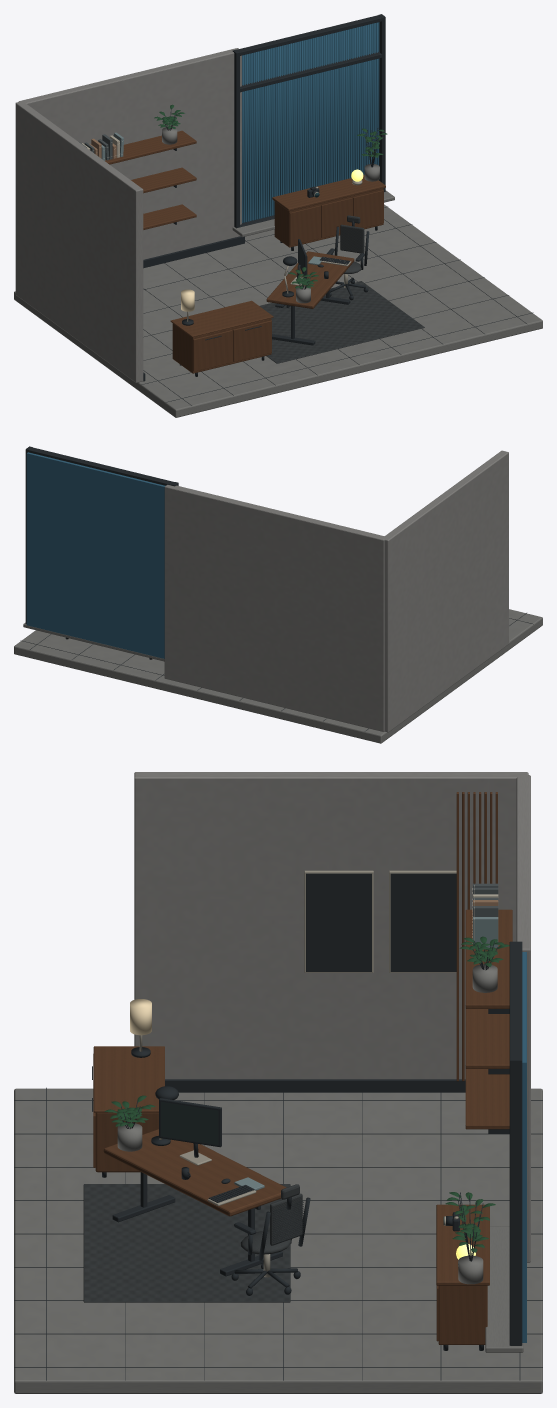
File: room-packed.glb
The picture shows the model from 3 angles, top to bottom: view 1: azimuth 30°, elevation 25°; view 2: azimuth 150°, elevation 25°; view 3: azimuth 270°, elevation 25°; orthographic projection. The views are drawn at different scales.
Visible parts, largest first — view 1: room_detail_Graphite mineral plaster, room_detail_Honed charcoal stone, room_detail_Blue smoked fluted glazing, room_detail_Walnut • satin oiled end grain, room_detail_Powder coated graphite, Woven studio rug, record_console, desk, chair, library_books, Window plant, Shelf plant (+1 smaller); view 2: room_detail_Graphite mineral plaster, room_detail_Blue smoked fluted glazing, room_detail_Honed charcoal stone, room_detail_Powder coated graphite; view 3: room_detail_Honed charcoal stone, room_detail_Graphite mineral plaster, room_detail_Powder coated graphite, Woven studio rug, room_detail_Walnut • satin oiled end grain, desk, record_console, chair, monitor_screen, room_detail_Blue smoked fluted glazing, Window plant, room_detail_Brushed warm aluminum (+4 smaller).
Boxes of the visible parts, box(x1,y1,x2,y2) form: room_detail_Graphite mineral plaster: box(15, 48, 241, 382); room_detail_Honed charcoal stone: box(14, 190, 542, 417); room_detail_Blue smoked fluted glazing: box(242, 22, 379, 223); room_detail_Walnut • satin oiled end grain: box(105, 130, 385, 247); room_detail_Powder coated graphite: box(141, 14, 533, 405); Woven studio rug: box(259, 281, 424, 363); record_console: box(170, 300, 273, 376); desk: box(266, 251, 354, 345); chair: box(326, 215, 369, 300); library_books: box(79, 132, 123, 160); Window plant: box(357, 128, 387, 181); Shelf plant: box(154, 104, 184, 144); room_detail_Graphite mineral plaster: box(164, 450, 508, 732); room_detail_Blue smoked fluted glazing: box(26, 452, 165, 658); room_detail_Honed charcoal stone: box(14, 609, 542, 743); room_detail_Powder coated graphite: box(20, 446, 533, 731); room_detail_Honed charcoal stone: box(14, 1088, 542, 1393); room_detail_Graphite mineral plaster: box(134, 772, 530, 1262); room_detail_Powder coated graphite: box(14, 873, 542, 1380); Woven studio rug: box(83, 1184, 290, 1302); room_detail_Walnut • satin oiled end grain: box(436, 792, 512, 1344); desk: box(103, 1129, 286, 1276); record_console: box(92, 1046, 164, 1177); chair: box(231, 1184, 310, 1295); monitor_screen: box(161, 1101, 218, 1145); room_detail_Blue smoked fluted glazing: box(522, 952, 526, 1342); Window plant: box(445, 1192, 495, 1284); room_detail_Brushed warm aluminum: box(139, 870, 458, 1266).
Bounding box in the file's own units: 7.26 × 3.78 × 5.5.
17 materials, 4 textured.
